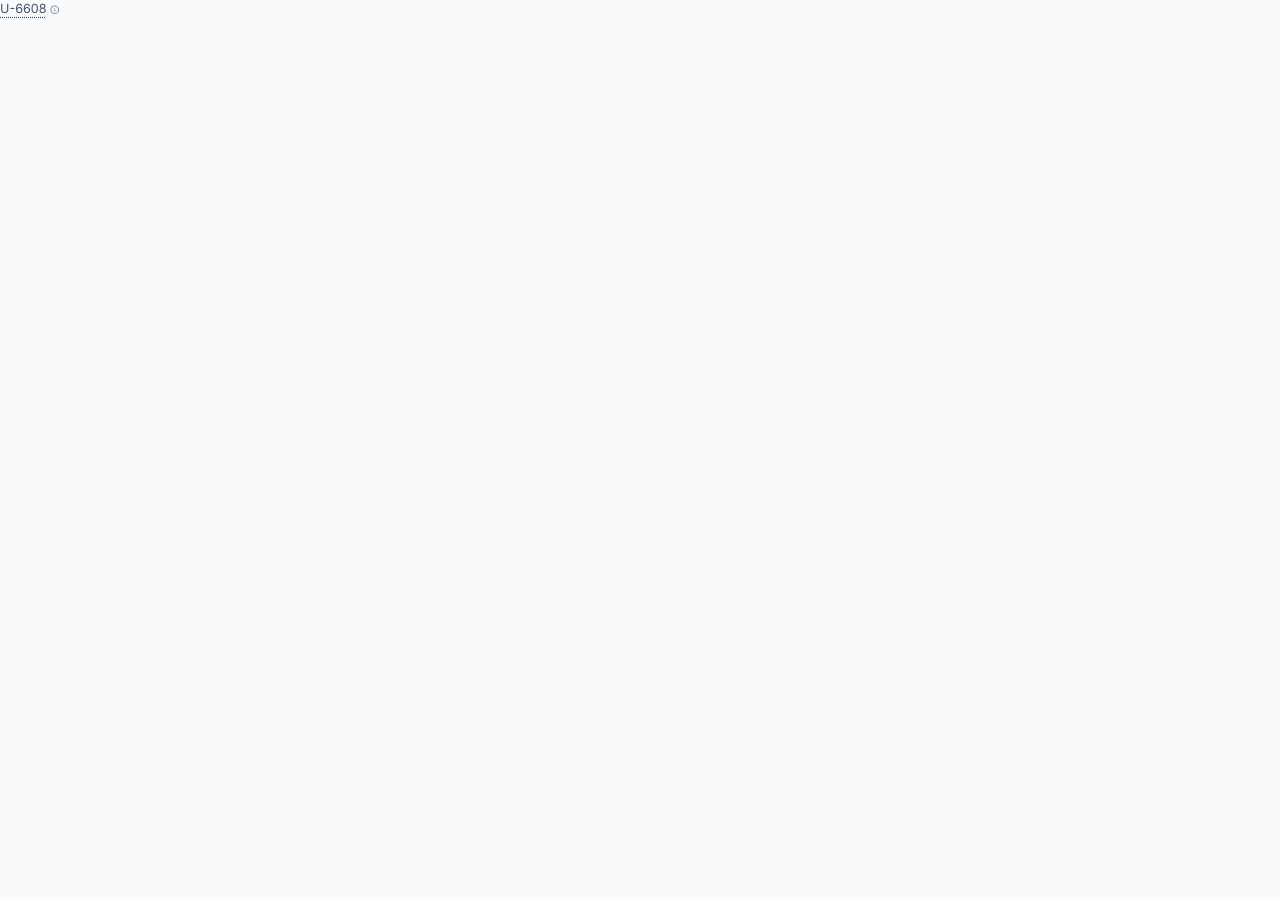
Test case: read-only loan overview information › lazily opens actual multiple asset snapshots on hover, including mixed receipt status, serial and Brik
Hover over the button at (30, 10), box [0, 0, 59, 19]
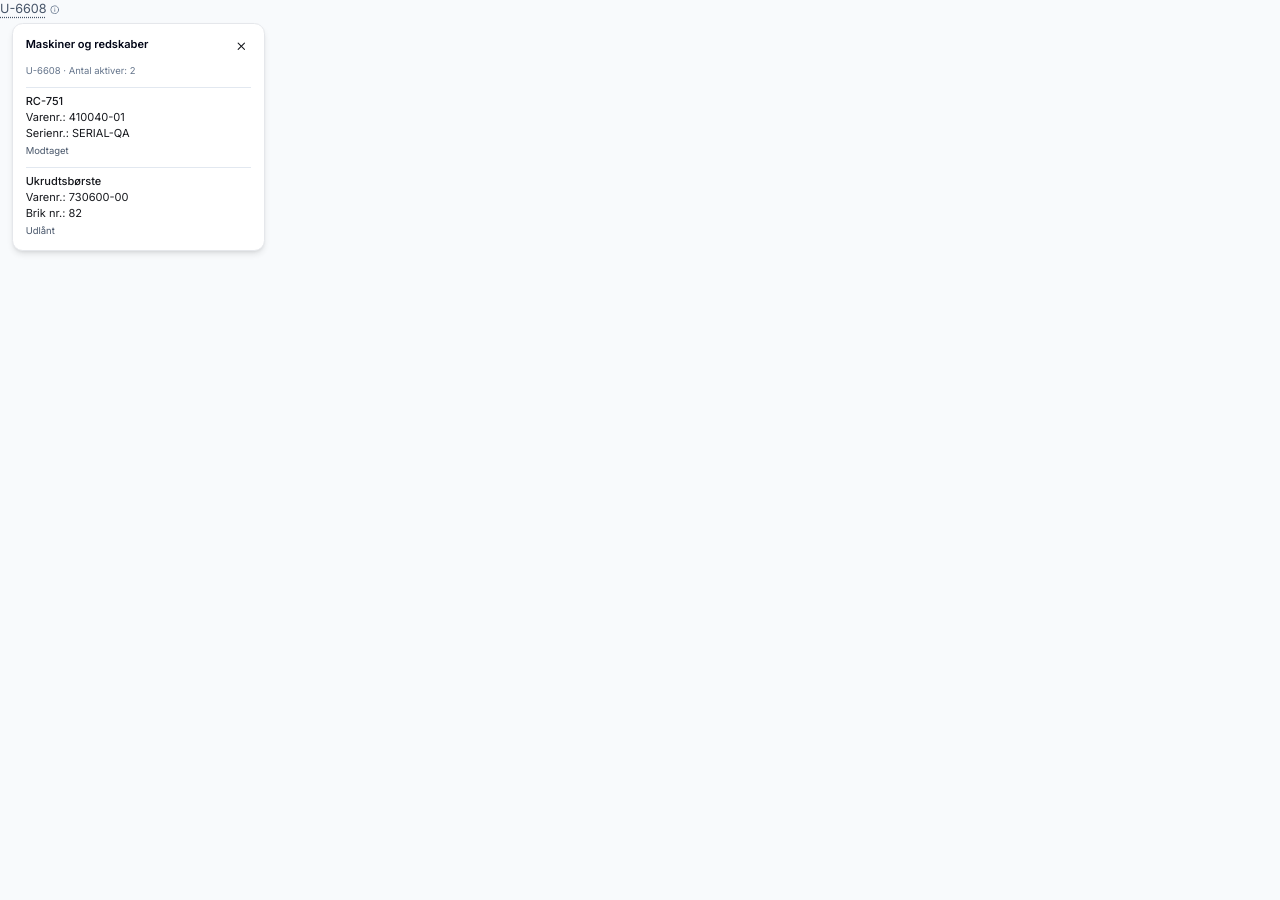
Expected: the text "RC-751" is shown, [26, 94, 63, 108]
Expected: the text "Ukrudtsbørste" is shown, [26, 174, 101, 188]
Expected: the text "Varenr.: 410040-01" is shown, [26, 110, 125, 124]
Move the pointer off the button "U-6608", box [0, 0, 59, 19]
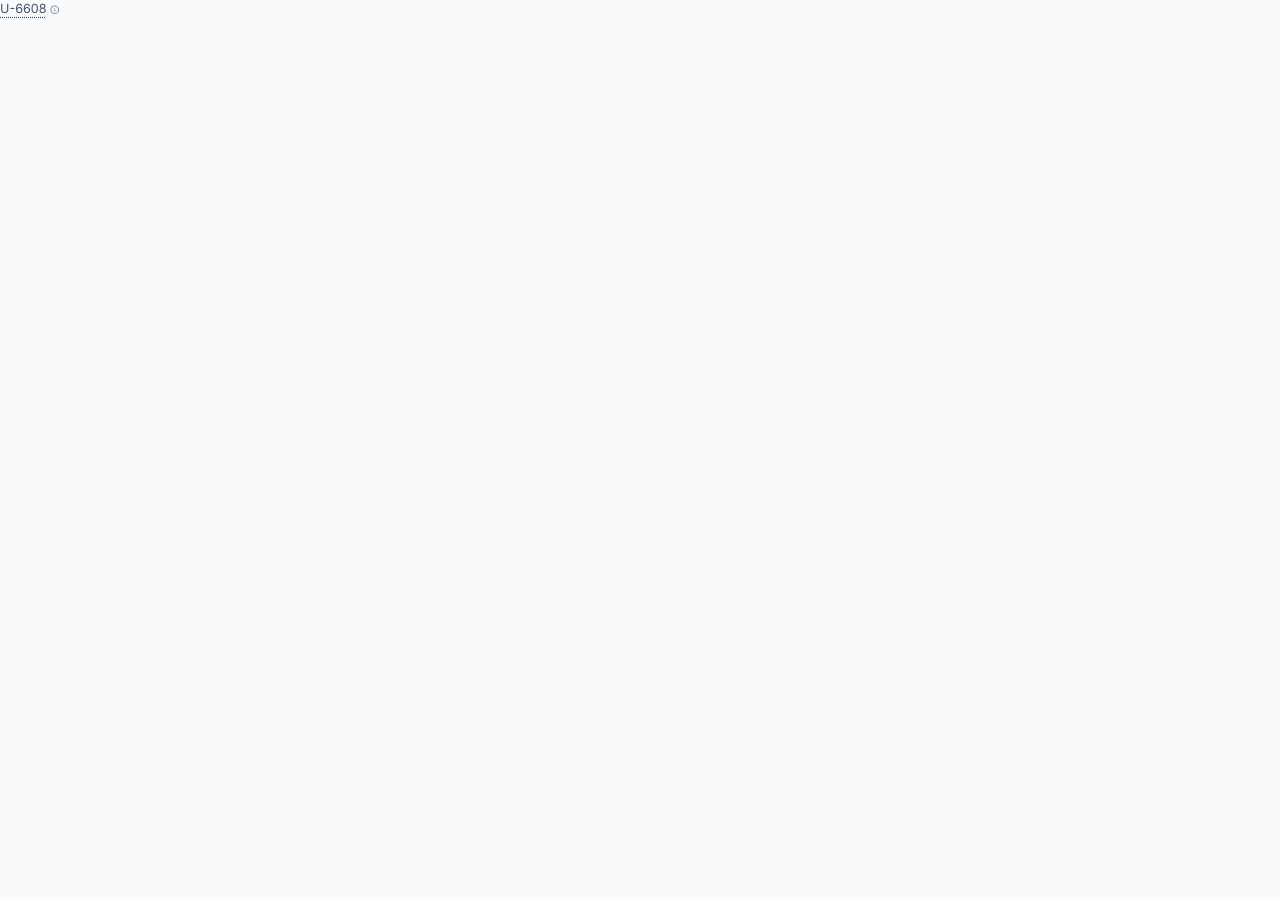
Expected: the dialog is gone
